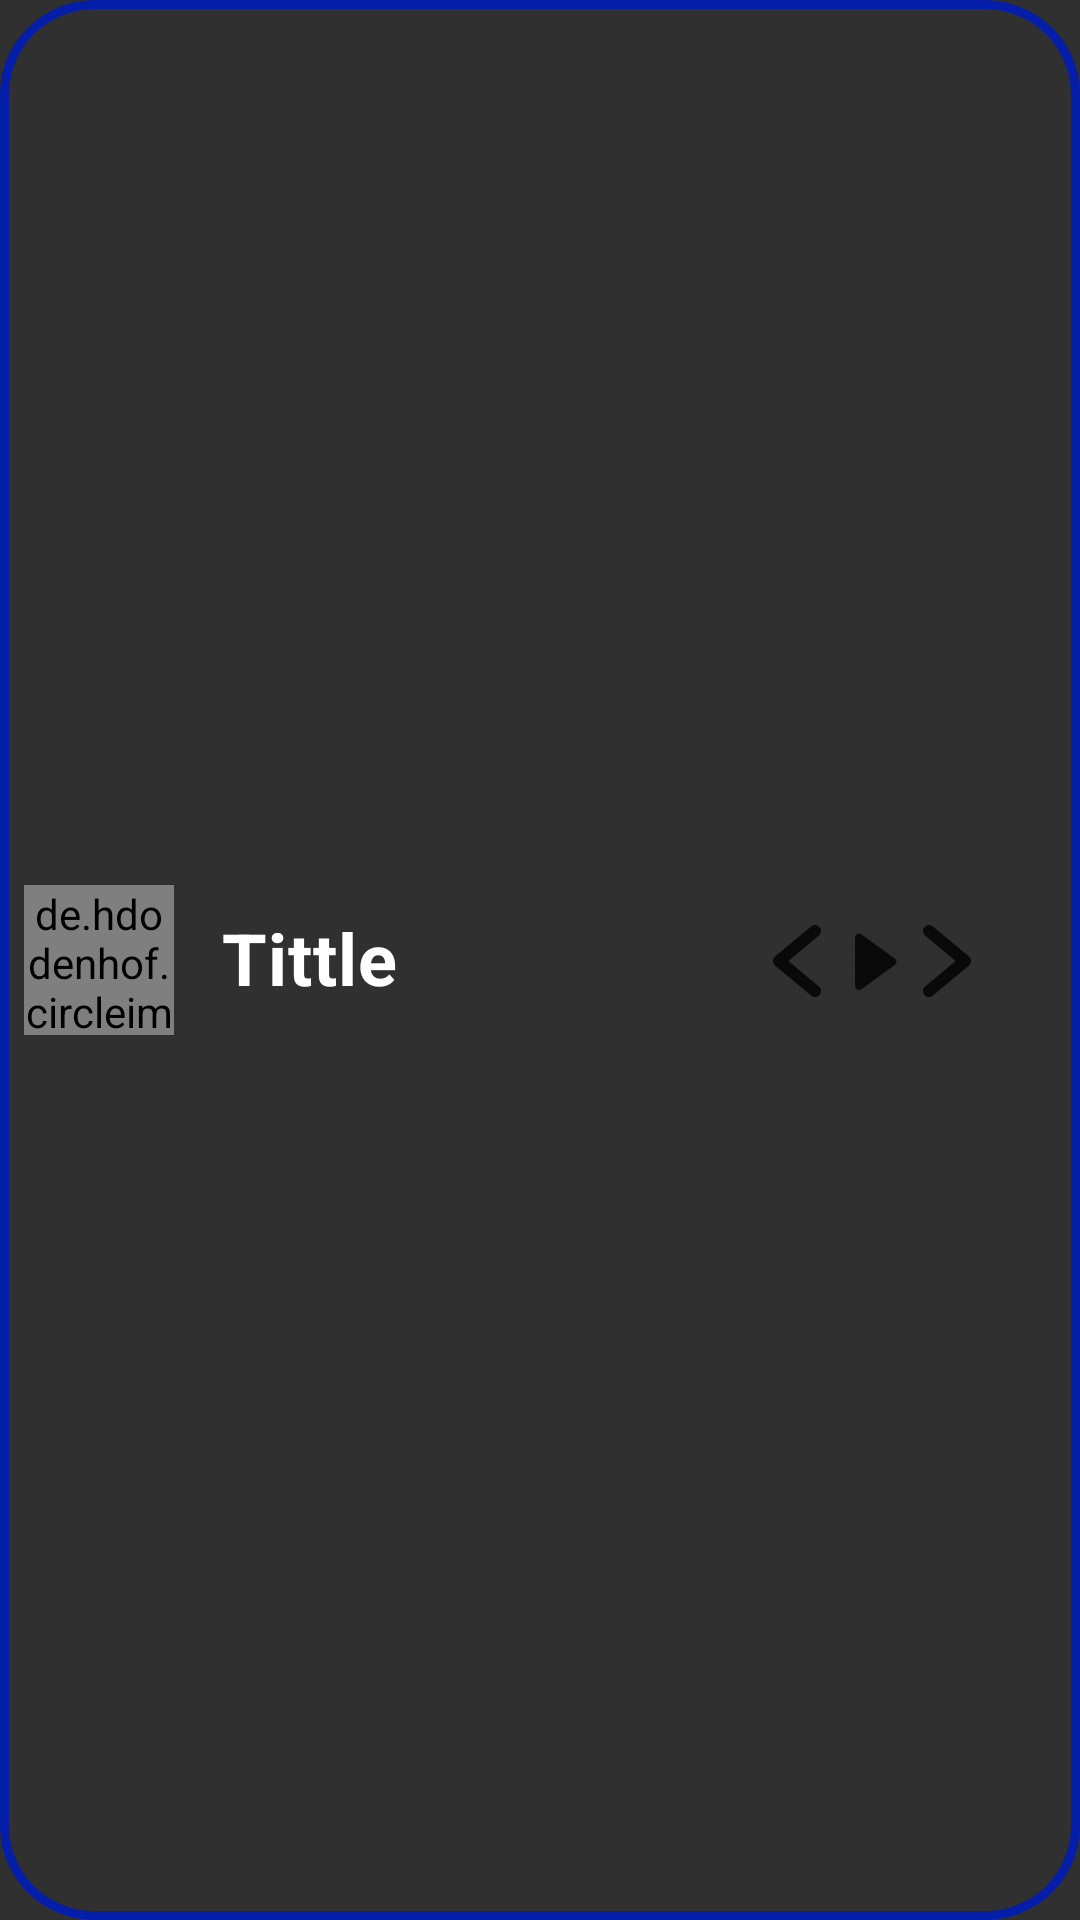

Icons on this 1080 x 1920 Android screen, each with its box as (x1, y1, x2, y2):
next: (923, 925, 971, 997)
play: (855, 934, 896, 990)
previous: (773, 925, 821, 997)
